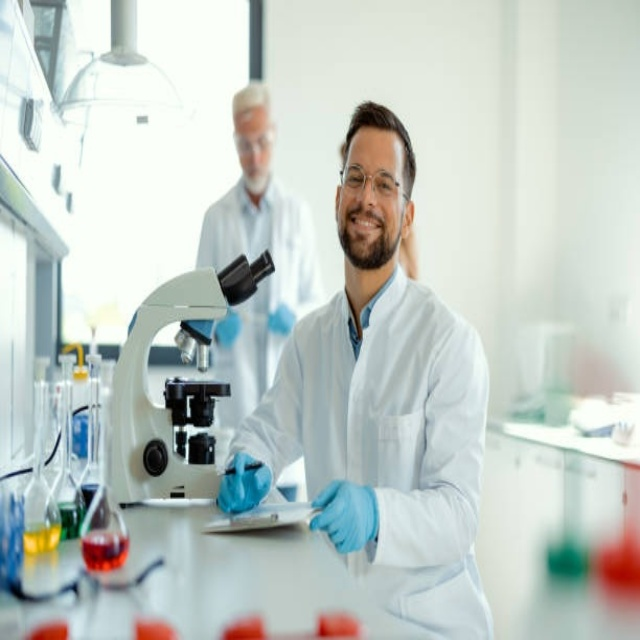Gafas: (339, 160, 412, 207), (234, 125, 280, 154)
Guantes: (310, 480, 380, 562), (219, 442, 273, 518)
Sin_mascara: (347, 207, 384, 246)
